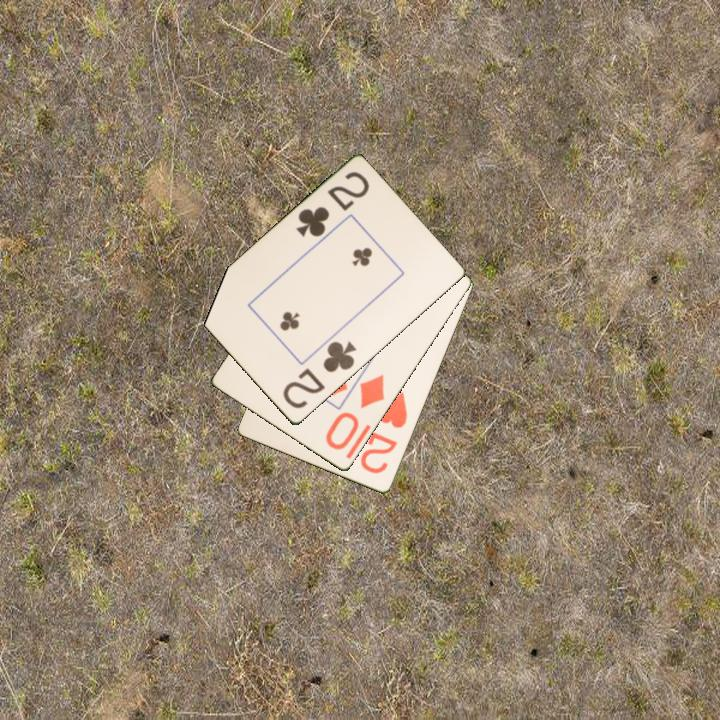10d: (322, 371, 388, 453)
2c: (279, 338, 360, 412), (292, 168, 372, 240)
2h: (357, 388, 410, 477)
